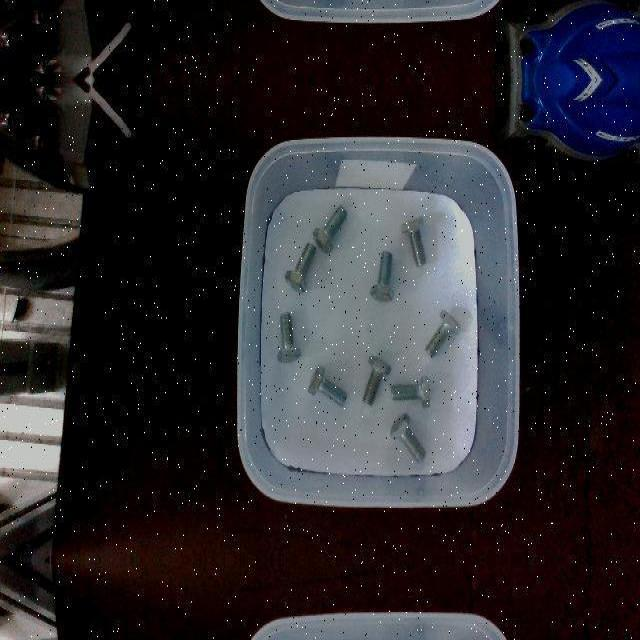screw: (389, 412, 427, 462), (312, 205, 348, 255), (425, 309, 461, 359), (307, 365, 347, 407), (285, 242, 316, 292), (362, 353, 391, 403), (400, 214, 426, 266), (277, 310, 302, 362), (370, 250, 394, 302), (392, 375, 431, 407)
